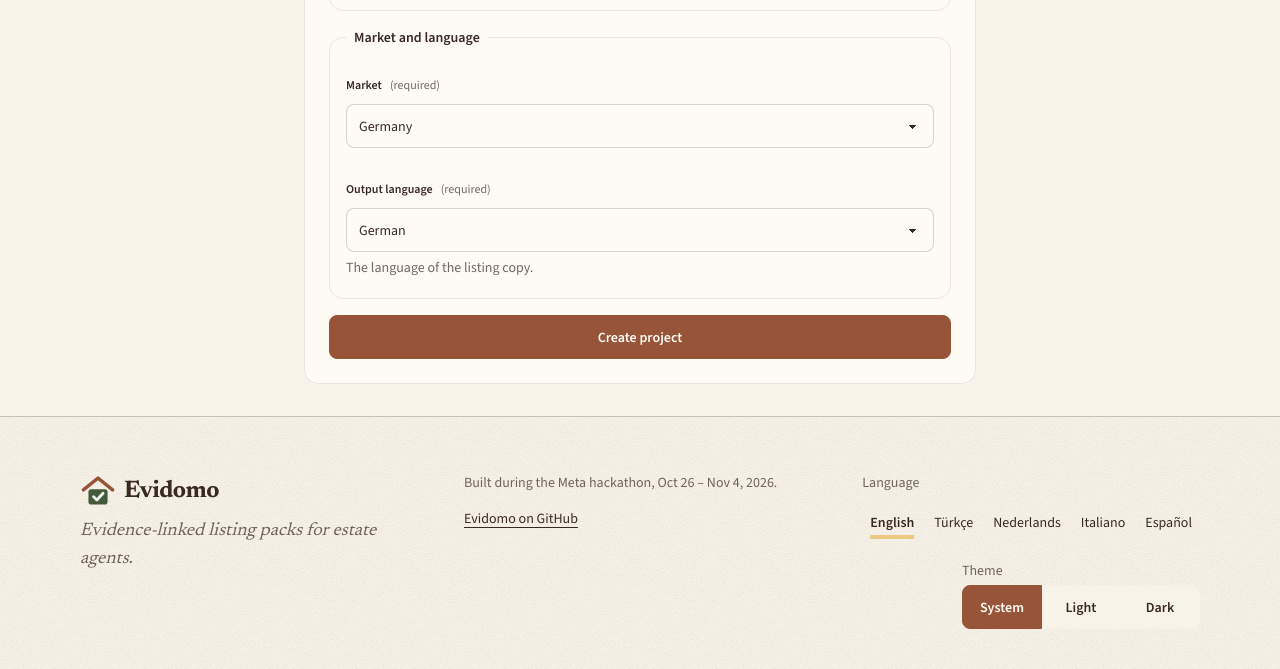
Test: new project page › validates on the client, focuses the first invalid field, and sends nothing
This screenshot has width=1280, height=669.
(page scrolled)
Click the button "Create project".
click(640, 337)  # box top-left (329, 315), bottom-right (951, 359)
(page scrolled)
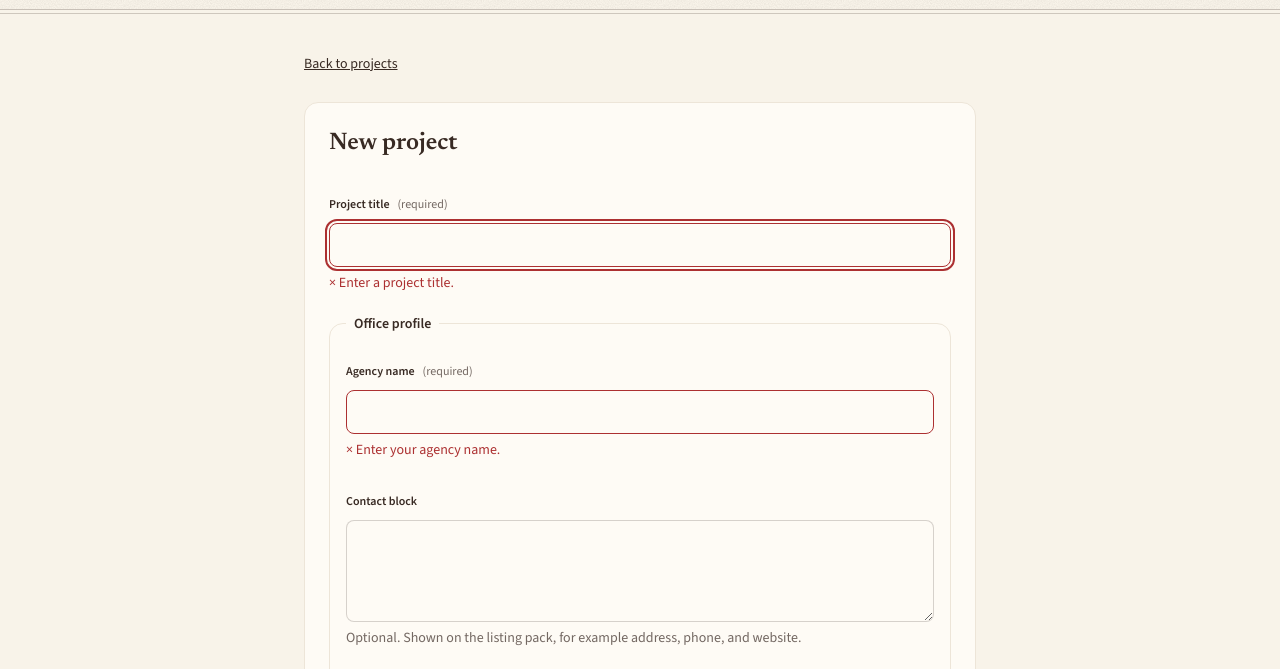
Check: the text "Enter a project title." is shown, box top-left (339, 273), bottom-right (454, 292)
Check: the text "Enter your agency name." is shown, box top-left (356, 440), bottom-right (500, 459)
